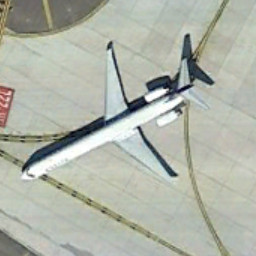Airplane: (13, 25, 215, 202)
